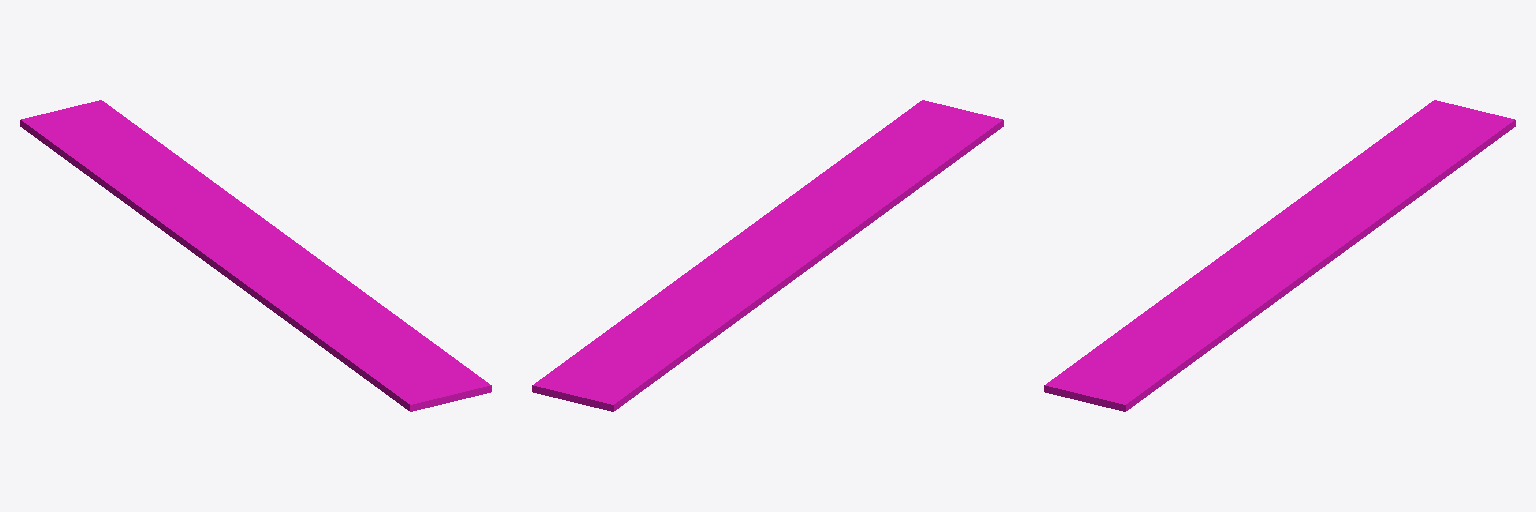
robot.urdf — universal_robot:
<?xml version="1.0" ?>
<!--FOR GRIPPER, THERE IS NO LINK INERTIA DEFINED HERE-->
<robot name="universal_robot">
  <material name="Blue">
    <color rgba="0.93 0.14 0.8 1.0"/>
  </material>
  <material name="Orange">
    <color rgba="1.0 0.423529411765 0.0392156862745 1.0"/>
  </material>
  <material name="Red">
  <color rgba="0.10 0.10 0.71 1"/>  
</material>

   <link name="world"/>
  <joint name="world_joint" type="fixed">
    <parent link="world"/>
    <child link="base_link"/>
    <origin rpy="0.0 0.0 0" xyz="0.0 0.0 0.0"/>
  </joint>

  <link name="base_link">
    <visual>
      <geometry>
        <mesh filename="meshes/ur5/collision/base.stl"/>
      </geometry>
	  <material name="Red"/>
    </visual>
    <collision>
      <geometry>
        <mesh filename="meshes/ur5/collision/base.stl"/>
      </geometry>
    </collision>
    <inertial>
      <mass value="4.0"/>
      <origin rpy="0 0 0" xyz="0.0 0.0 0.0"/>
      <inertia ixx="0.00443333156" ixy="0.0" ixz="0.0" iyy="0.00443333156" iyz="0.0" izz="0.0072"/>
    </inertial>
  </link>

  <joint name="shoulder_pan_joint" type="revolute">
    <parent link="base_link"/>
    <child link="shoulder_link"/>
    <origin rpy="0.0 0.0 0.0" xyz="0.0 0.0 0.089159"/>
    <axis xyz="0 0 1"/>
    <limit effort="150.0" lower="-6.28318530718" upper="6.28318530718" velocity="3.15"/>
    <dynamics damping="0.0" friction="0.0"/>
  </joint>
  <link name="shoulder_link">
    <visual>
      <geometry>
        <mesh filename="meshes/ur5/collision/shoulder.stl"/>
      </geometry>
      <material name="Blue"/>   
    </visual>
    <collision>
      <geometry>
        <mesh filename="meshes/ur5/collision/shoulder.stl"/>
      </geometry>
    </collision>
    <inertial>
      <mass value="3.7"/>
      <origin rpy="0 0 0" xyz="0.0 0.0 0.0"/>
      <inertia ixx="0.010267495893" ixy="0.0" ixz="0.0" iyy="0.010267495893" iyz="0.0" izz="0.00666"/>
    </inertial>
  </link>
  
  <joint name="shoulder_lift_joint" type="revolute">
    <parent link="shoulder_link"/>
    <child link="upper_arm_link"/>
    <origin rpy="0.0 1.57079632679 0.0" xyz="0.0 0.13585 0.0"/>
    <axis xyz="0 1 0"/>
    <limit effort="150.0" lower="-6.28318530718" upper="6.28318530718" velocity="3.15"/>
    <dynamics damping="0.0" friction="0.0"/>
  </joint>
  <link name="upper_arm_link">
    <visual>
      <geometry>
        <mesh filename="meshes/ur5/collision/upperarm.stl"/>
      </geometry>
      <material name="Red"/>
    </visual>
    <collision>
      <geometry>
        <mesh filename="meshes/ur5/collision/upperarm.stl"/>
      </geometry>
    </collision>
    <inertial>
      <mass value="8.393"/>
      <origin rpy="0 0 0" xyz="0.0 0.0 0.28"/>
      <inertia ixx="0.22689067591" ixy="0.0" ixz="0.0" iyy="0.22689067591" iyz="0.0" izz="0.0151074"/>
    </inertial>
  </link>
  
  <joint name="elbow_joint" type="revolute">
    <parent link="upper_arm_link"/>
    <child link="forearm_link"/>
    <origin rpy="0.0 0.0 0.0" xyz="0.0 -0.1197 0.425"/>
    <axis xyz="0 1 0"/>
    <limit effort="150.0" lower="-3.14159265359" upper="3.14159265359" velocity="3.15"/>
    <dynamics damping="0.0" friction="0.0"/>
  </joint>
  <link name="forearm_link">
    <visual>
      <geometry>
        <mesh filename="meshes/ur5/collision/forearm.stl"/>
      </geometry>
     <material name="Blue"/>
    </visual>
    <collision>
      <geometry>
        <mesh filename="meshes/ur5/collision/forearm.stl"/>
      </geometry>
    </collision>
    <inertial>
      <mass value="2.275"/>
      <origin rpy="0 0 0" xyz="0.0 0.0 0.25"/>
      <inertia ixx="0.049443313556" ixy="0.0" ixz="0.0" iyy="0.049443313556" iyz="0.0" izz="0.004095"/>
    </inertial>
  </link>
  
  <joint name="wrist_1_joint" type="revolute">
    <parent link="forearm_link"/>
    <child link="wrist_1_link"/>
    <origin rpy="0.0 1.57079632679 0.0" xyz="0.0 0.0 0.39225"/>
    <axis xyz="0 1 0"/>
    <limit effort="28.0" lower="-6.28318530718" upper="6.28318530718" velocity="3.2"/>
    <dynamics damping="0.0" friction="0.0"/>
  </joint>
  <link name="wrist_1_link">
    <visual>
      <geometry>
        <mesh filename="meshes/ur5/collision/wrist1.stl"/>
      </geometry>
      <material name="Red"/>
    </visual>
    <collision>
      <geometry>
        <mesh filename="meshes/ur5/collision/wrist1.stl"/>
      </geometry>
    </collision>
    <inertial>
      <mass value="1.219"/>
      <origin rpy="0 0 0" xyz="0.0 0.0 0.0"/>
      <inertia ixx="0.111172755531" ixy="0.0" ixz="0.0" iyy="0.111172755531" iyz="0.0" izz="0.21942"/>
    </inertial>
  </link>
  
  <joint name="wrist_2_joint" type="revolute">
    <parent link="wrist_1_link"/>
    <child link="wrist_2_link"/>
    <origin rpy="0.0 0.0 0.0" xyz="0.0 0.093 0.0"/>
    <axis xyz="0 0 1"/>
    <limit effort="28.0" lower="-6.28318530718" upper="6.28318530718" velocity="3.2"/>
    <dynamics damping="0.0" friction="0.0"/>
  </joint>
  <link name="wrist_2_link">
    <visual>
      <geometry>
        <mesh filename="meshes/ur5/collision/wrist2.stl"/>
      </geometry>
      <material name="Blue"/>
    </visual>
    <collision>
      <geometry>
        <mesh filename="meshes/ur5/collision/wrist2.stl"/>
      </geometry>
    </collision>
    <inertial>
      <mass value="1.219"/>
      <origin rpy="0 0 0" xyz="0.0 0.0 0.0"/>
      <inertia ixx="0.111172755531" ixy="0.0" ixz="0.0" iyy="0.111172755531" iyz="0.0" izz="0.21942"/>
    </inertial>
  </link>
  
  <joint name="wrist_3_joint" type="revolute">
    <parent link="wrist_2_link"/>
    <child link="wrist_3_link"/>
    <origin rpy="0.0 0.0 0.0" xyz="0.0 0.0 0.09465"/>
    <axis xyz="0 1 0"/>
    <limit effort="28.0" lower="-6.28318530718" upper="6.28318530718" velocity="3.2"/>
    <dynamics damping="0.0" friction="0.0"/>
  </joint>
  <link name="wrist_3_link">
    <visual>
      <geometry>
        <mesh filename="meshes/ur5/collision/wrist3.stl"/>
      </geometry>
      <material name="Red"/>
    </visual>
    <collision>
      <geometry>
        <mesh filename="meshes/ur5/collision/wrist3.stl"/>
      </geometry>
    </collision>
    <inertial>
      <mass value="0.1879"/>
      <origin rpy="0 0 0" xyz="0.0 0.0 0.0"/>
      <inertia ixx="0.0171364731454" ixy="0.0" ixz="0.0" iyy="0.0171364731454" iyz="0.0" izz="0.033822"/>
    </inertial>
  </link>
  
  <joint name="ee_fixed_joint" type="fixed">
    <parent link="wrist_3_link"/>
    <child link="ee_link"/>
    <origin rpy="0.0 0.0 0.0" xyz="0.0 0.0823 0.0"/>
  </joint>
  <link name="ee_link">
    <visual>
      <geometry>
        <box size="0.012 0.1 0.001"/>
      </geometry>
	  <material name="Blue"/>
      <origin rpy="0 0 0" xyz="-0.0 0 0"/>
    </visual>  
  
    <collision>
      <geometry>
        <box size="0.012 0.1 0.001"/>
      </geometry>
      <origin rpy="0 0 0" xyz="-0.0 0 0"/>
    </collision>		
	
    <inertial>
      <mass value="0.15"/>
      <origin rpy="0 0 0" xyz="0.0 0.0 0.0"/>
      <inertia ixx="0.00171364731454" ixy="0.0" ixz="0.0" iyy="0.00171364731454" iyz="0.0" izz="0.0033822"/>
    </inertial>
  </link>



  
</robot>

--- What the picture shows (computed from the rendered views, not written in the file) ---
The picture shows the robot from 3 angles, left to right: view 1: azimuth 30°, elevation 25°; view 2: azimuth 150°, elevation 25°; view 3: azimuth 330°, elevation 25°; orthographic projection.
Robot: universal_robot — 9 links, 8 joints (6 revolute, 2 fixed); root link world; default pose: all joints at 0.
Links seen in each view (by area): view 1: ee_link; view 2: ee_link; view 3: ee_link.
Link boxes in pixels (x1,y1,x2,y2): ee_link: (20,100,491,411); ee_link: (532,100,1003,411); ee_link: (1044,100,1515,411).
Bounding box of the posed robot: 0.012 × 0.1 × 0.001 m (x, y, z).
0 mesh visuals loaded from 7 distinct referenced files (none loaded); not drawn: 7 (reference not matched to a file when rendering).